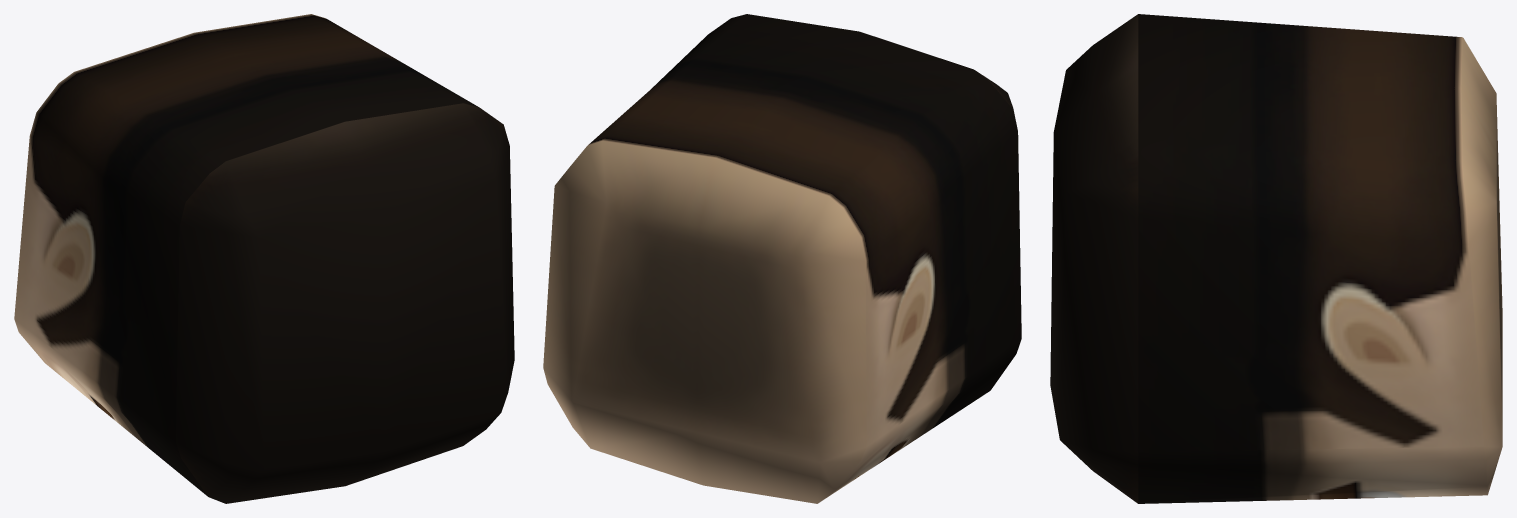
File: Avatar_Mike_H_Head_1_4e91c6c9__Avatar_Mike_B_022b1c9b_c1f257.obj
3 views of the same model, side by side, from view 1: azimuth 30°, elevation 25°; view 2: azimuth 150°, elevation 25°; view 3: azimuth 270°, elevation 25° (orthographic). The views are drawn at different scales.
Bounding box in the file's own units: 0.6857 × 0.7049 × 0.7416.
1 material, 1 textured.
